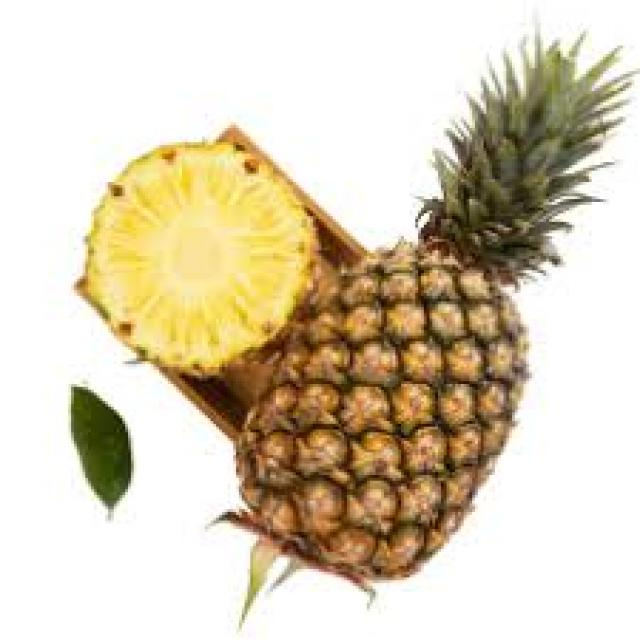organic waste: (224, 23, 626, 597), (71, 137, 339, 376), (51, 381, 131, 515)
